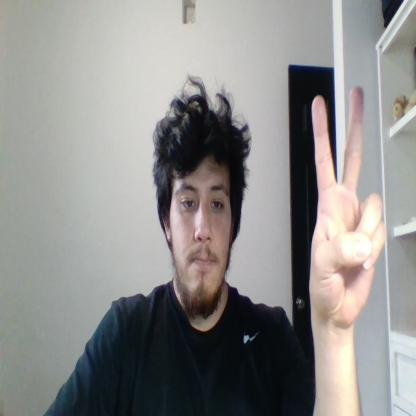V: (309, 85, 384, 327)
